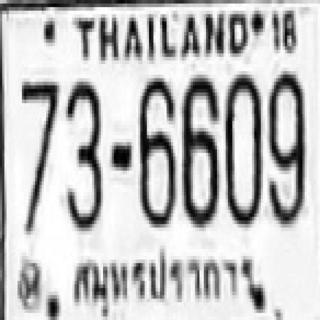N00: (224, 74, 261, 227)
N03: (65, 79, 102, 228)
N06: (181, 75, 219, 225), (140, 78, 177, 227)
N07: (20, 78, 59, 231)
N09: (268, 70, 305, 226)
P57: (70, 242, 254, 315)
